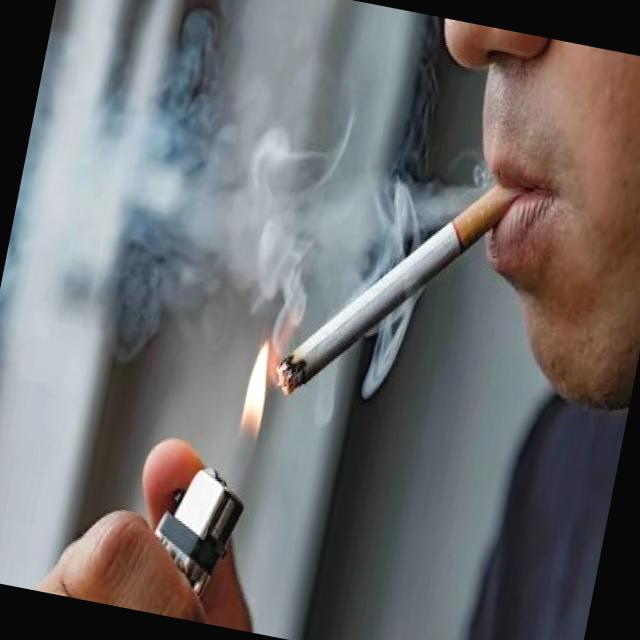cigarette: (268, 144, 524, 438)
